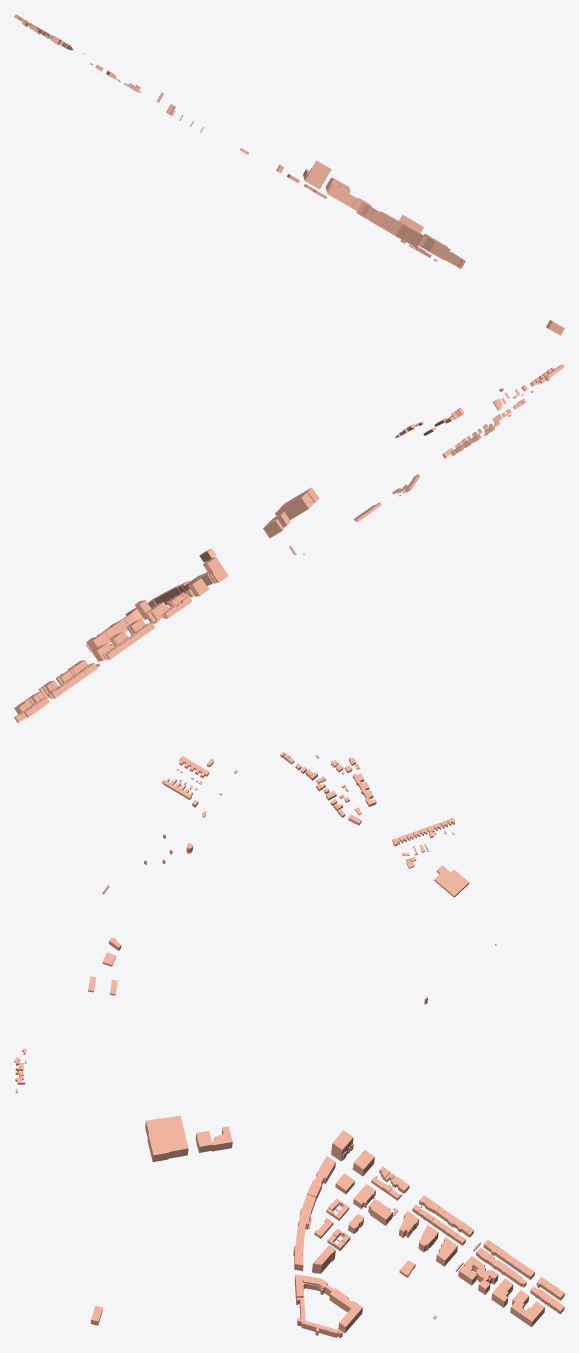
3 views of the same model, one above another, from view 1: azimuth 30°, elevation 25°; view 2: azimuth 150°, elevation 25°; view 3: azimuth 270°, elevation 25° (orthographic). The views are drawn at different scales.
Bounding box in the file's own units: 987 × 759 × 1030.
